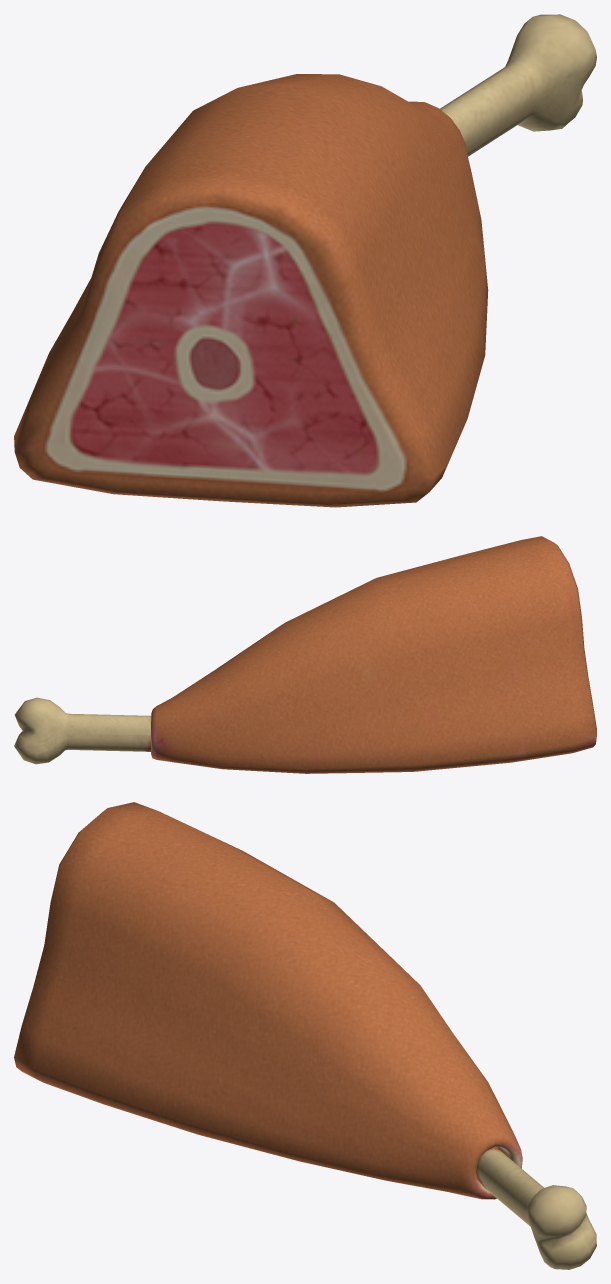
Rendered from Leg.fbx.
The picture shows the model from 3 angles, top to bottom: view 1: azimuth 30°, elevation 25°; view 2: azimuth 150°, elevation 25°; view 3: azimuth 270°, elevation 25°; orthographic projection. The views are drawn at different scales.
Parts seen in each view (by area): view 1: Object003; view 2: Object003; view 3: Object003.
Part boxes in pixels (bbox=[...]): Object003: bbox=[14, 14, 596, 507]; Object003: bbox=[14, 536, 596, 773]; Object003: bbox=[14, 802, 596, 1269].
Bounding box in the file's own units: 21.94 × 8.37 × 18.74.
